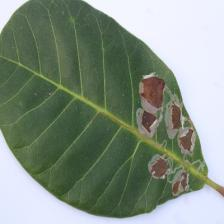leaf miner: (140, 148, 197, 200), (134, 66, 169, 139), (168, 89, 199, 159)
